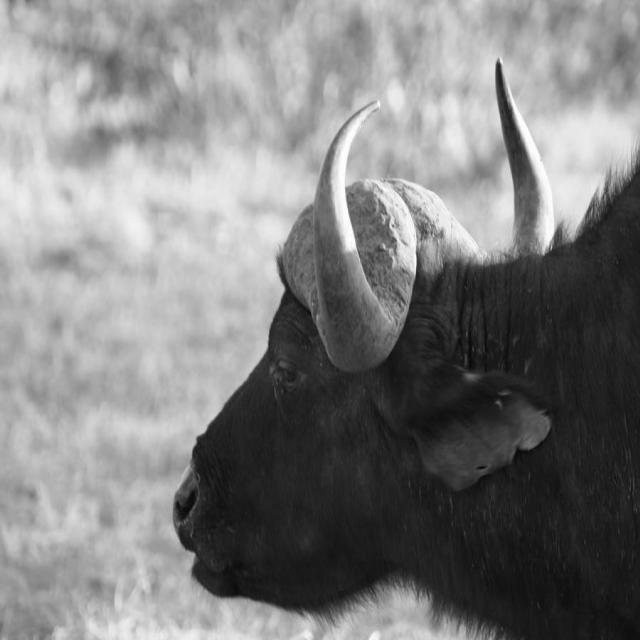Buffalo: (172, 59, 638, 640)
